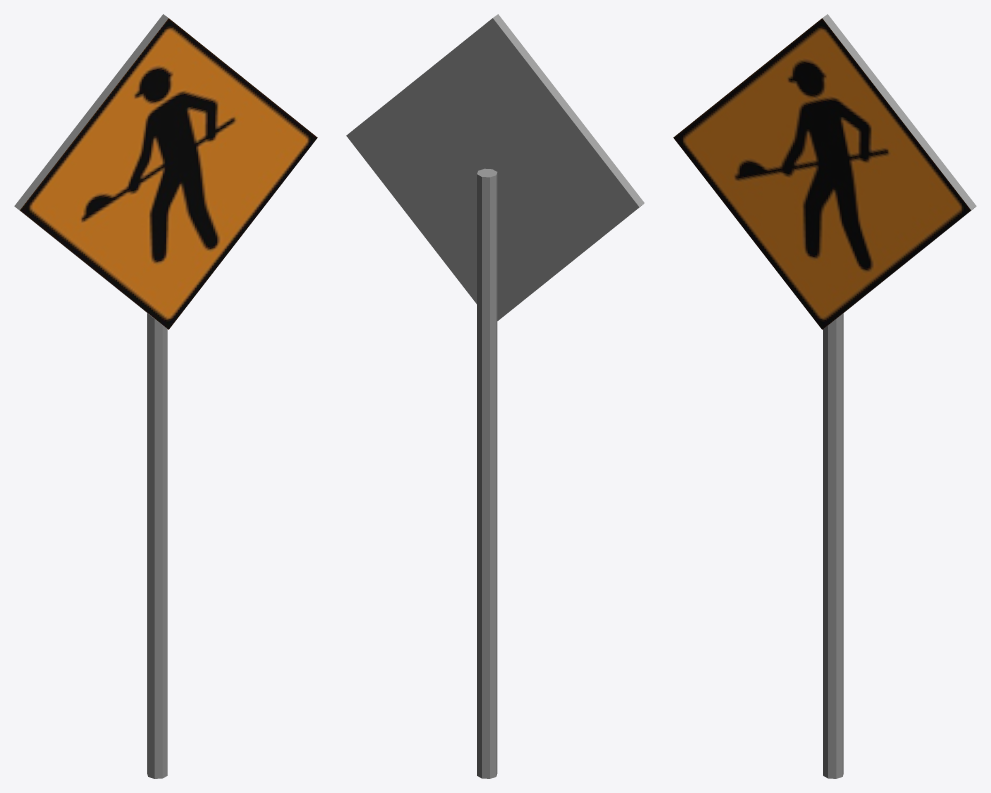
The model's file is PlacaObras.fbx.
3 views of the same model, side by side, from view 1: azimuth 30°, elevation 25°; view 2: azimuth 150°, elevation 25°; view 3: azimuth 330°, elevation 25° (orthographic).
Visible parts, largest first — view 1: PlacaObras; view 2: PlacaObras; view 3: PlacaObras.
Boxes of the visible parts, left/top/right/bottom form: PlacaObras: left=14, top=14, right=317, bottom=778; PlacaObras: left=346, top=14, right=644, bottom=778; PlacaObras: left=673, top=14, right=976, bottom=778.
Size of the model in its own units: 114 by 279 by 11.04.
